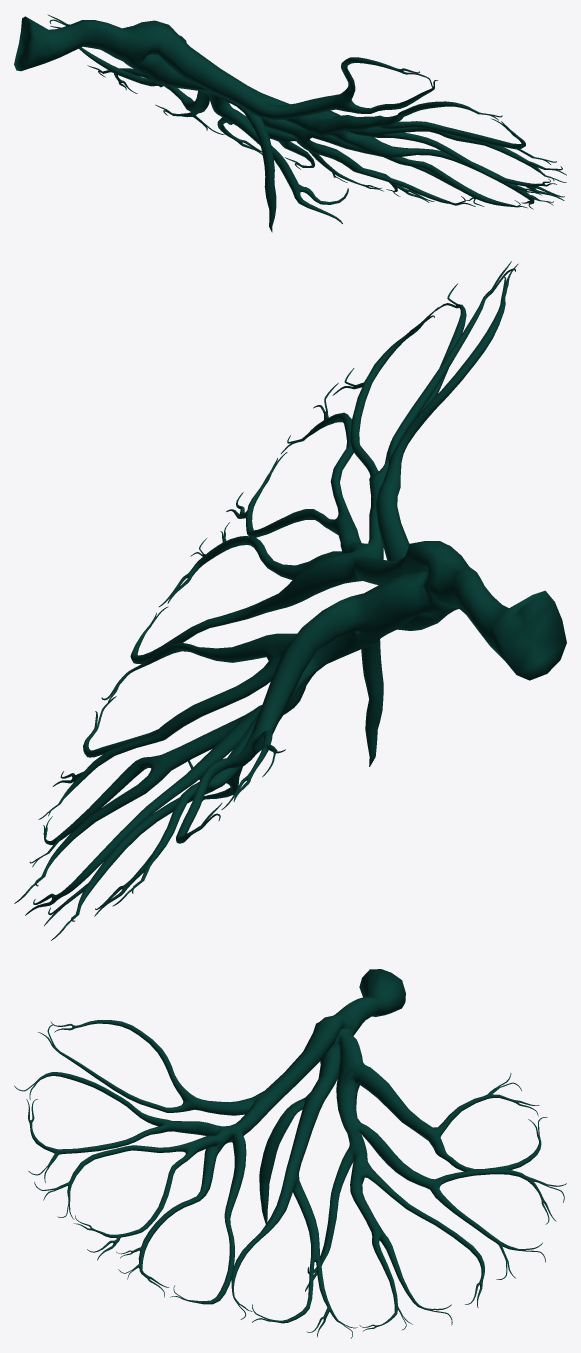
The model's file is Left_Renal_artery.fbx.
3 views of the same model, one above another, from view 1: azimuth 30°, elevation 25°; view 2: azimuth 150°, elevation 25°; view 3: azimuth 270°, elevation 25° (orthographic). The views are drawn at different scales.
Parts seen in each view (by area): view 1: Left_Renal_artery; view 2: Left_Renal_artery; view 3: Left_Renal_artery.
Part boxes in pixels (box(x1,y1,x2,y2)): Left_Renal_artery: box(14, 14, 566, 232); Left_Renal_artery: box(14, 261, 566, 940); Left_Renal_artery: box(14, 969, 566, 1338).
Bounding box in the file's own units: 68.18 × 48.92 × 95.5.
